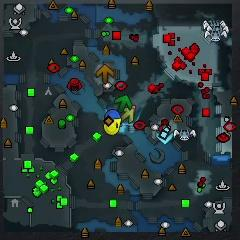p1: (104, 108, 120, 120)
p4: (103, 118, 122, 136)
x2: (121, 108, 134, 124)
x3: (155, 126, 174, 144)
x4: (115, 94, 133, 113)
x5: (97, 65, 115, 83)
